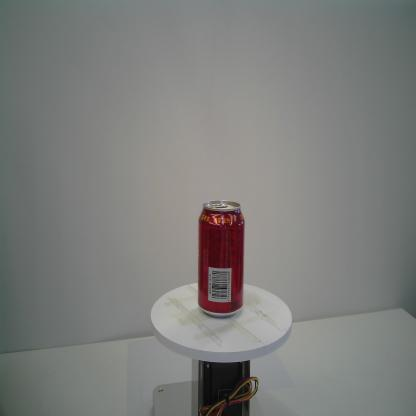Drink: (194, 199, 247, 319)
